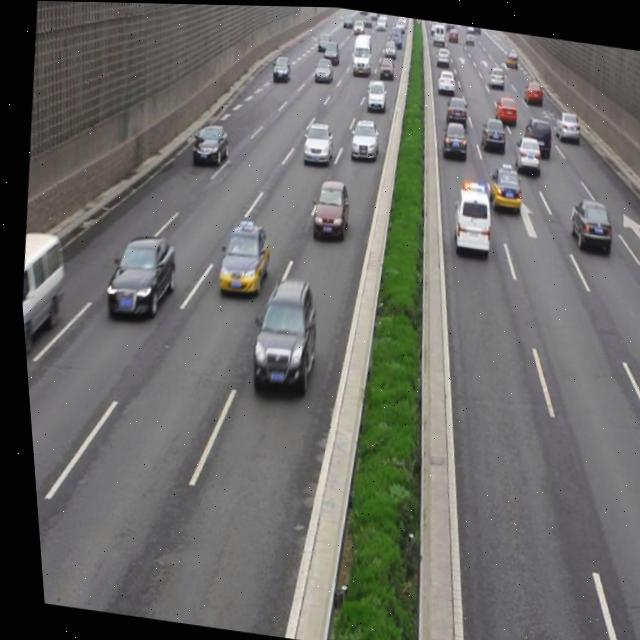car: (239, 272, 321, 396), (97, 232, 177, 320), (210, 215, 270, 301), (302, 175, 349, 242), (561, 195, 613, 252), (480, 160, 522, 213), (187, 119, 230, 165), (343, 115, 378, 161), (297, 119, 334, 161), (517, 113, 550, 159), (436, 116, 467, 160), (474, 113, 505, 152), (509, 134, 539, 171)
truck: (13, 228, 69, 360), (442, 177, 492, 254)
